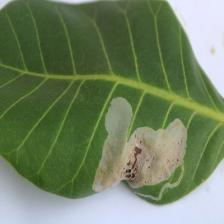leaf miner: (85, 92, 190, 205)
